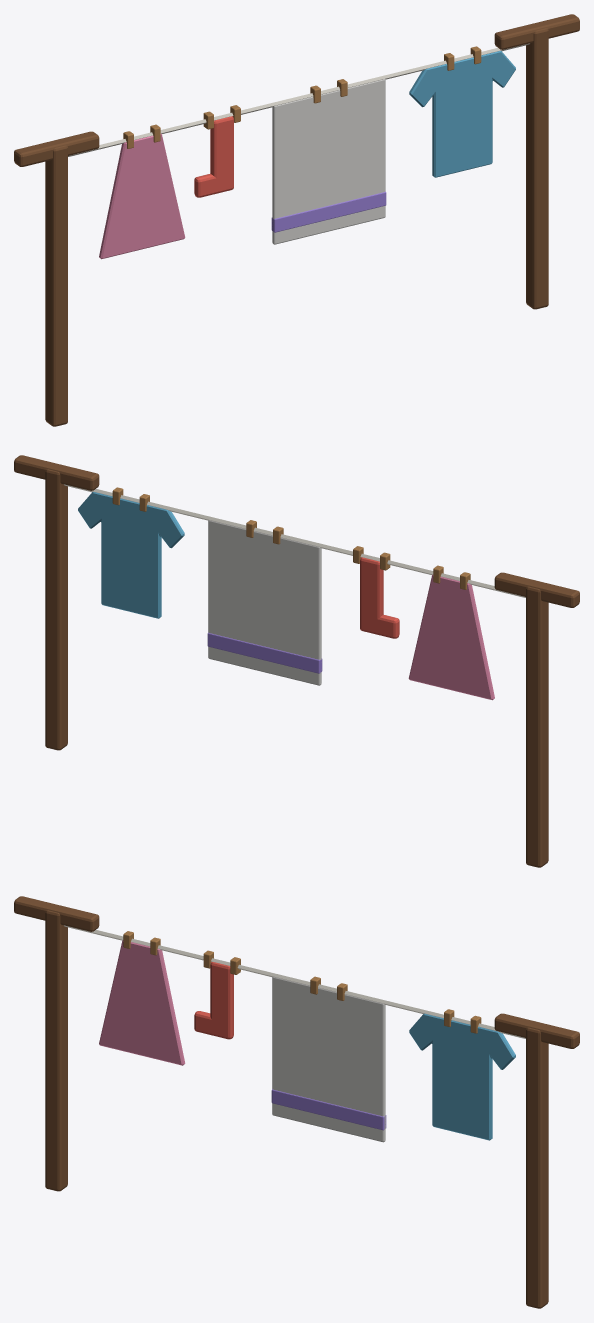
File: laundry_line.fbx
The picture shows the model from 3 angles, top to bottom: view 1: azimuth 30°, elevation 25°; view 2: azimuth 150°, elevation 25°; view 3: azimuth 330°, elevation 25°; orthographic projection.
Parts seen in each view (by area): view 1: Poles, Cloth1, Cloth0, Cloth3, Cloth2; view 2: Poles, Cloth1, Cloth0, Cloth3, Cloth2; view 3: Poles, Cloth1, Cloth0, Cloth3, Cloth2.
Part boxes in pixels (bbox=[...]): Poles: bbox=[14, 14, 579, 426]; Cloth1: bbox=[271, 79, 386, 244]; Cloth0: bbox=[409, 46, 515, 177]; Cloth3: bbox=[99, 124, 185, 259]; Cloth2: bbox=[194, 105, 240, 197]; Poles: bbox=[14, 455, 579, 867]; Cloth1: bbox=[207, 520, 322, 685]; Cloth0: bbox=[78, 487, 184, 618]; Cloth3: bbox=[408, 565, 494, 700]; Cloth2: bbox=[353, 546, 399, 638]; Poles: bbox=[14, 896, 579, 1308]; Cloth1: bbox=[271, 976, 386, 1142]; Cloth0: bbox=[409, 1009, 515, 1140]; Cloth3: bbox=[99, 931, 185, 1065]; Cloth2: bbox=[194, 950, 240, 1039].
Size of the model in its own units: 2.1 by 1 by 0.06.
